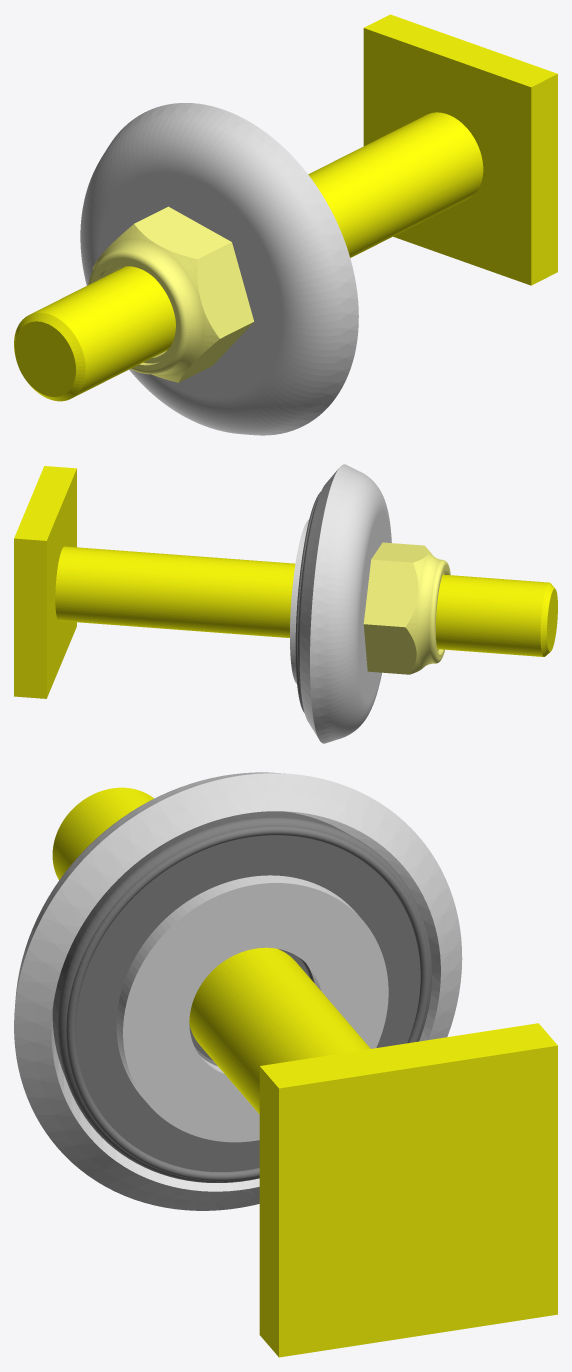
Rendered from BallMill_Fasteners_T_Type_AntiRotation_Bolting_[BM_OVFL_20].glb.
The picture shows the model from 3 angles, top to bottom: view 1: azimuth 30°, elevation 25°; view 2: azimuth 150°, elevation 25°; view 3: azimuth 270°, elevation 25°; orthographic projection. The views are drawn at different scales.
Visible parts, largest first — view 1: Node3, Node2, Node4; view 2: Node3, Node2, Node4, Node1; view 3: Node3, Node2, Node1.
Boxes of the visible parts, bbox=[...] form: Node3: bbox=[14, 14, 557, 401]; Node2: bbox=[80, 103, 358, 435]; Node4: bbox=[88, 206, 253, 382]; Node3: bbox=[14, 466, 557, 698]; Node2: bbox=[290, 464, 391, 743]; Node4: bbox=[363, 542, 450, 674]; Node1: bbox=[295, 492, 320, 712]; Node3: bbox=[52, 787, 557, 1357]; Node2: bbox=[14, 772, 462, 1210]; Node1: bbox=[52, 811, 432, 1182].
Size of the model in its own units: 0.1951 by 0.1012 by 0.1155.
